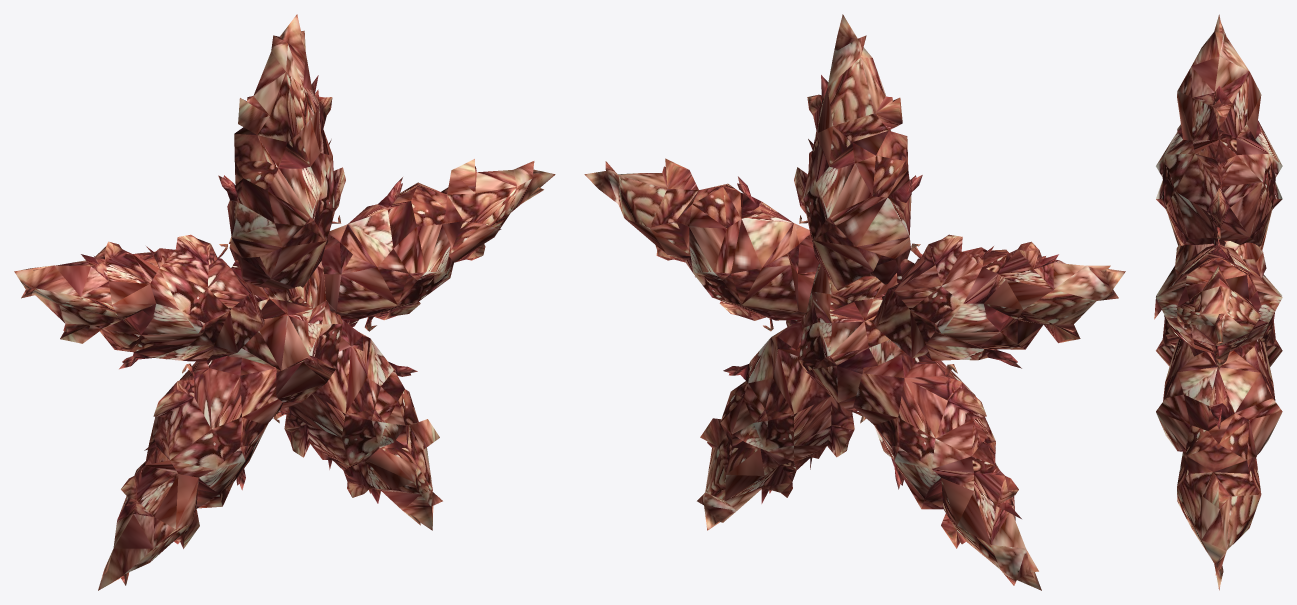
The model's file is starfish_bud.glb.
3 views of the same model, side by side, from view 1: azimuth 30°, elevation 25°; view 2: azimuth 150°, elevation 25°; view 3: azimuth 270°, elevation 25° (orthographic). The views are drawn at different scales.
Parts seen in each view (by area): view 1: Mesh; view 2: Mesh; view 3: Mesh.
Part boxes in pixels (box(x1,y1,x2,y2)): Mesh: box(14, 14, 555, 590); Mesh: box(584, 14, 1125, 590); Mesh: box(1154, 14, 1282, 590).
Bounding box in the file's own units: 0.9792 × 0.95 × 0.2148.
Materials: 1 (1 with a texture image).
